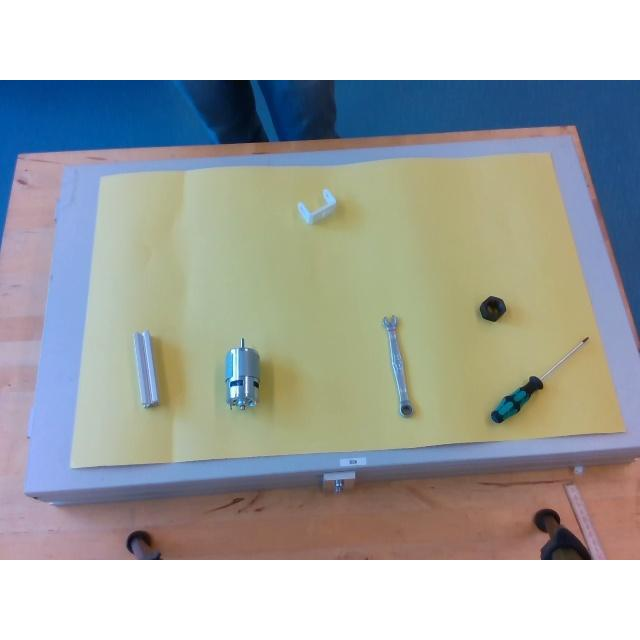F20_20_G: (134, 330, 158, 406)
M20: (478, 296, 506, 320)
Motor2: (225, 338, 259, 407)
Screwdriver: (490, 336, 590, 422)
Wrench: (382, 316, 413, 416)
